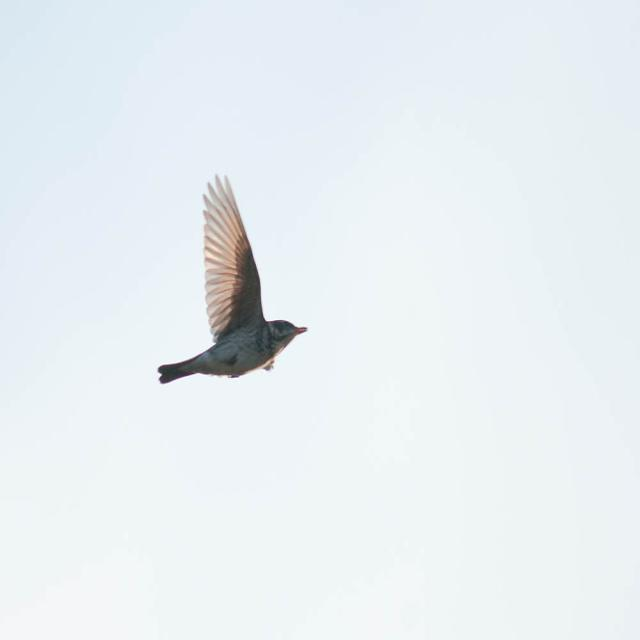bird: (159, 175, 314, 397)
